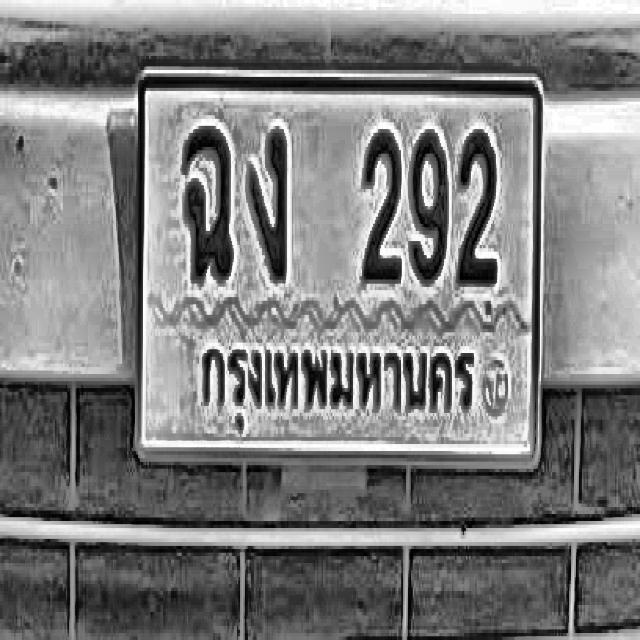license-plate: (131, 49, 548, 490)
